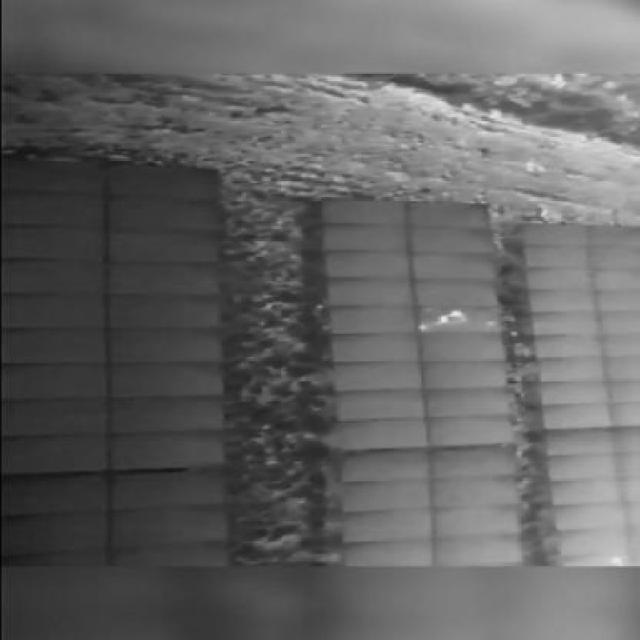hotspot: (436, 314, 446, 324), (449, 312, 462, 318), (413, 324, 425, 330)
